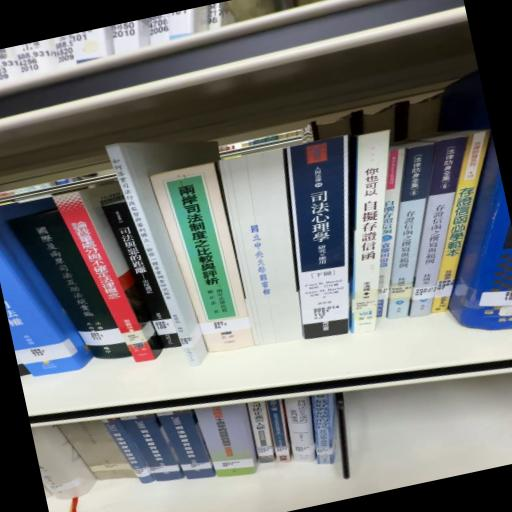backward: (219, 148, 302, 344)
book: (0, 172, 164, 384), (266, 131, 389, 342), (151, 160, 254, 334)
